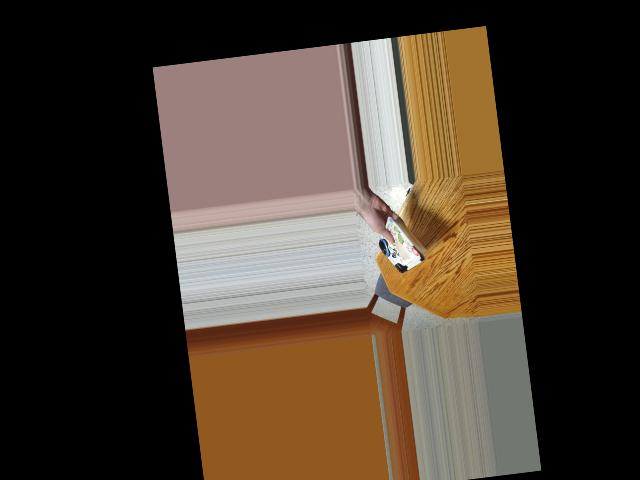cheese: (375, 216, 438, 279)
